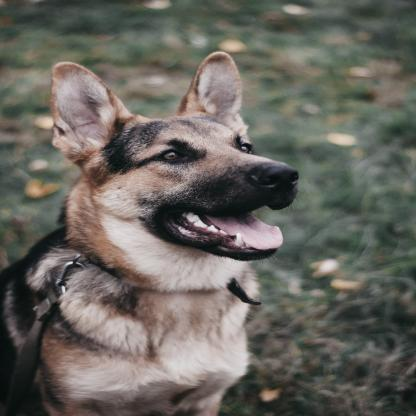dog: (0, 52, 308, 416)
